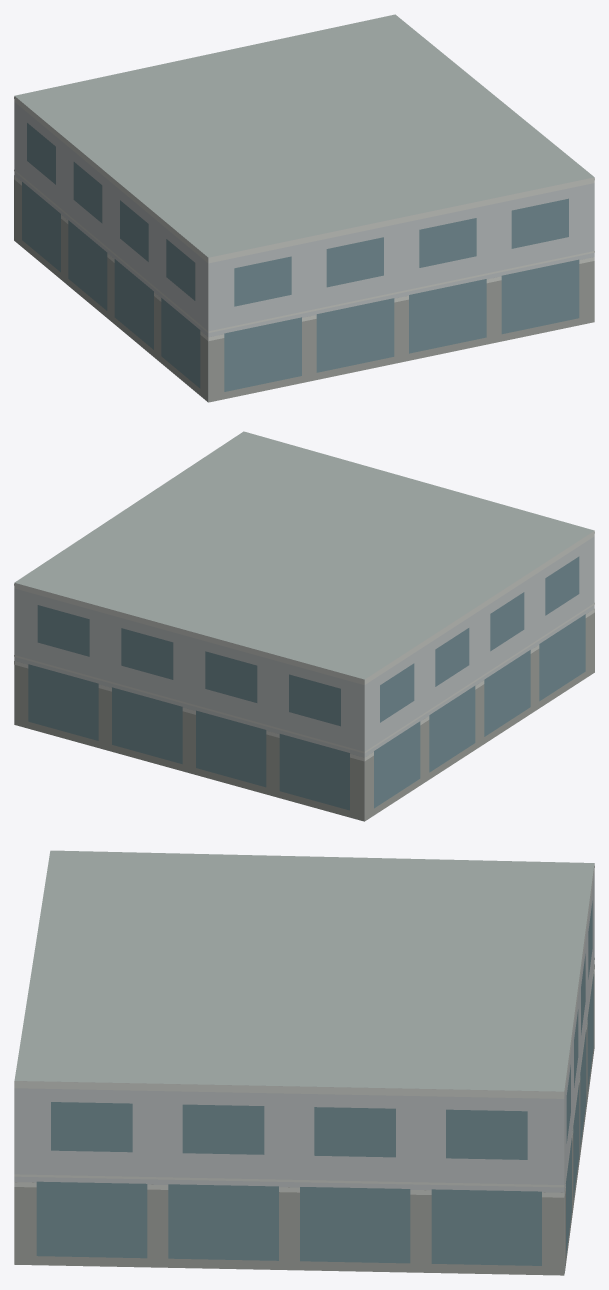
The model's file is survey-upis-32885492.glb.
3 views of the same model, one above another, from view 1: azimuth 30°, elevation 25°; view 2: azimuth 150°, elevation 25°; view 3: azimuth 270°, elevation 25° (orthographic). The views are drawn at different scales.
Visible parts, largest first — view 1: survey-upis-32885492.tmp; view 2: survey-upis-32885492.tmp; view 3: survey-upis-32885492.tmp.
Boxes of the visible parts, bbox=[...] form: survey-upis-32885492.tmp: bbox=[14, 14, 594, 402]; survey-upis-32885492.tmp: bbox=[14, 431, 594, 821]; survey-upis-32885492.tmp: bbox=[14, 850, 594, 1275].
Bounding box in the file's own units: 17.19 × 6.1 × 17.47.
